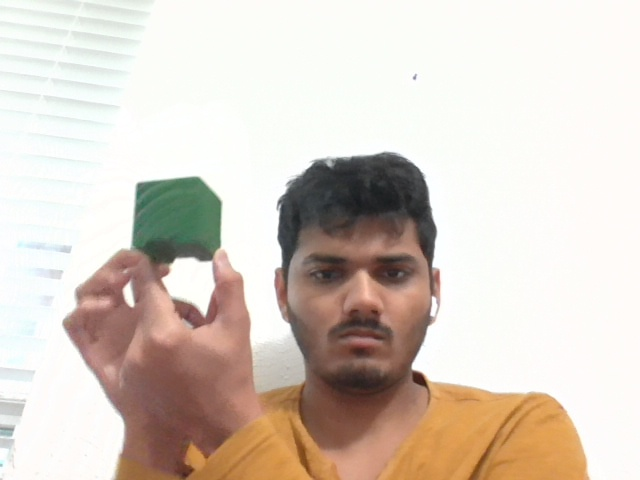GreenBlock: (136, 178, 221, 254)
